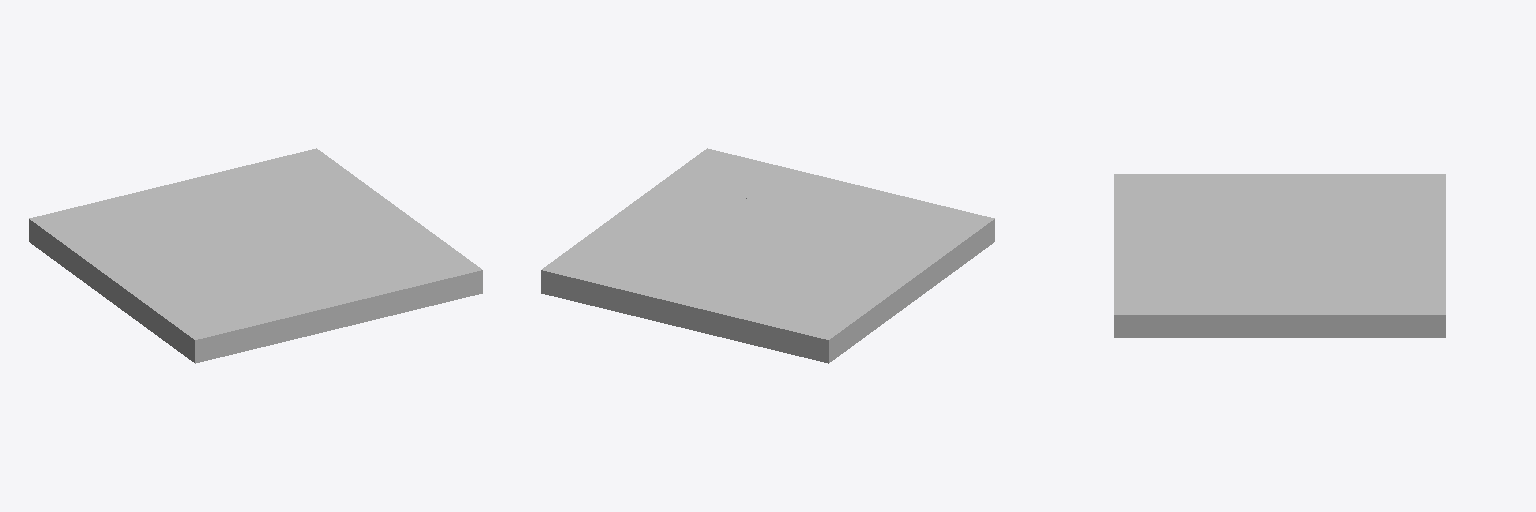
File: zom_dah_window_4x4m_a.obj
3 views of the same model, side by side, from view 1: azimuth 30°, elevation 25°; view 2: azimuth 150°, elevation 25°; view 3: azimuth 270°, elevation 25° (orthographic).
Visible parts, largest first — view 1: co_culling, g_trim, c_box_002; view 2: co_culling, g_trim, c_box_004, c_box_002; view 3: co_culling, g_trim, c_box_004.
Boxes of the visible parts, x1=… form: co_culling: x1=29, y1=148, x2=482, y2=363; g_trim: x1=29, y1=164, x2=416, y2=305; c_box_002: x1=29, y1=223, x2=230, y2=360; co_culling: x1=541, y1=148, x2=994, y2=363; g_trim: x1=542, y1=183, x2=927, y2=339; c_box_004: x1=541, y1=273, x2=869, y2=360; c_box_002: x1=794, y1=221, x2=994, y2=360; co_culling: x1=1114, y1=174, x2=1445, y2=337; g_trim: x1=1189, y1=174, x2=1445, y2=313; c_box_004: x1=1363, y1=317, x2=1445, y2=335.
Size of the model in its own units: 400 by 31 by 400.